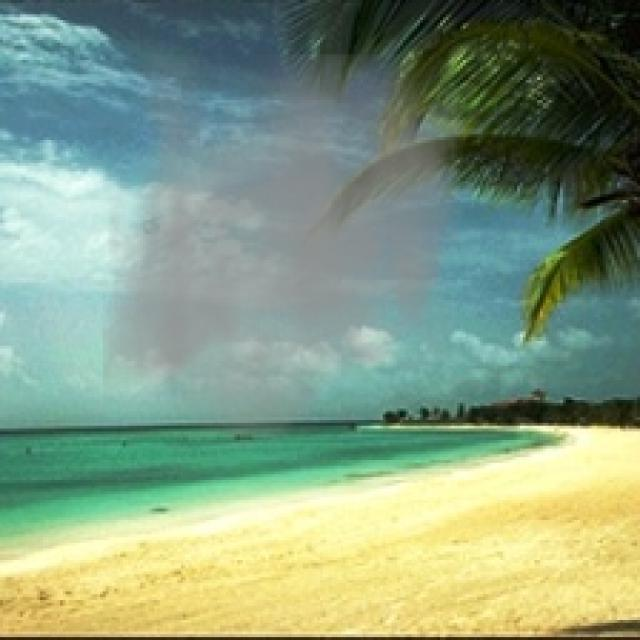Smoke: (103, 54, 466, 460)
